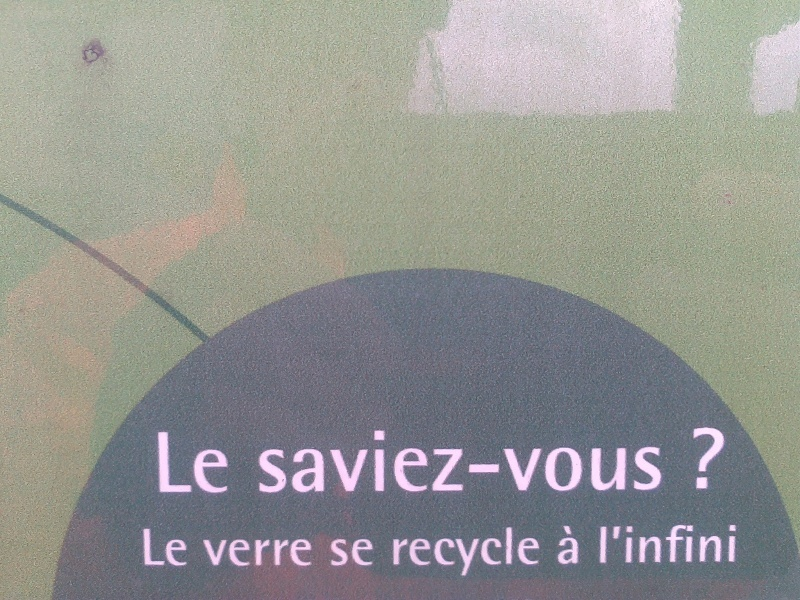text: (273, 427, 288, 494), (289, 427, 304, 494), (305, 427, 320, 494), (321, 427, 336, 494), (337, 427, 352, 494), (353, 427, 368, 494), (369, 427, 384, 494), (385, 427, 400, 494), (401, 427, 416, 494), (417, 427, 432, 494), (433, 427, 448, 494), (449, 427, 464, 494), (465, 427, 480, 494), (481, 427, 496, 494), (497, 427, 512, 494), (513, 427, 528, 494), (529, 427, 544, 494), (545, 427, 560, 494), (561, 427, 576, 494), (577, 427, 592, 494), (593, 427, 608, 494), (609, 427, 624, 494), (625, 427, 640, 494), (641, 427, 656, 494), (705, 426, 720, 492), (161, 431, 176, 495), (177, 431, 192, 495), (193, 431, 208, 495), (209, 431, 224, 495), (260, 427, 272, 494), (401, 526, 416, 579), (417, 526, 432, 579), (433, 526, 448, 579), (449, 526, 464, 579), (465, 526, 480, 579), (481, 526, 496, 579), (497, 526, 512, 579), (513, 526, 528, 579), (693, 426, 704, 492), (529, 526, 541, 579), (609, 523, 624, 565), (625, 523, 640, 565), (641, 523, 656, 565), (657, 523, 672, 565), (673, 523, 688, 565), (689, 523, 704, 565), (705, 523, 720, 565), (721, 523, 736, 565), (561, 525, 576, 566), (145, 527, 160, 567), (161, 527, 176, 567), (657, 427, 664, 494), (721, 426, 728, 492), (209, 538, 224, 568), (225, 538, 240, 568), (241, 538, 256, 568), (257, 538, 272, 568), (273, 538, 288, 568), (289, 538, 304, 568), (337, 538, 352, 568), (353, 538, 368, 568), (177, 527, 188, 567), (393, 526, 400, 579), (600, 523, 608, 565), (225, 431, 230, 495), (305, 538, 313, 568), (203, 538, 208, 568), (331, 538, 336, 568), (369, 538, 374, 568), (158, 431, 160, 495), (577, 525, 580, 566), (558, 525, 560, 566), (737, 523, 738, 565), (143, 527, 144, 567)
